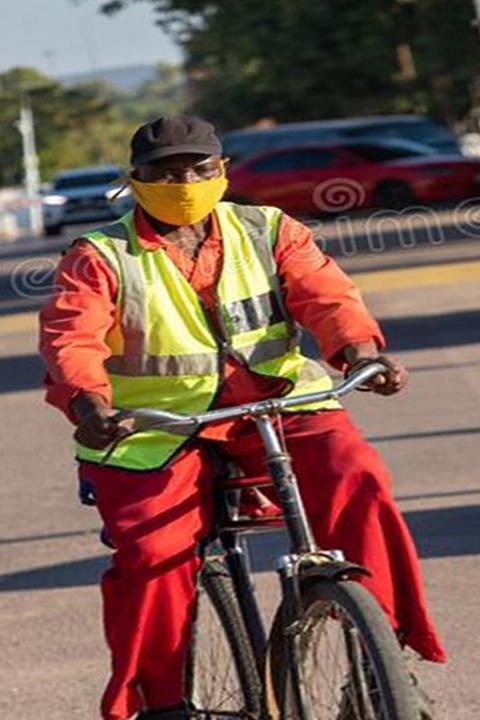Vest: (84, 209, 295, 413)
